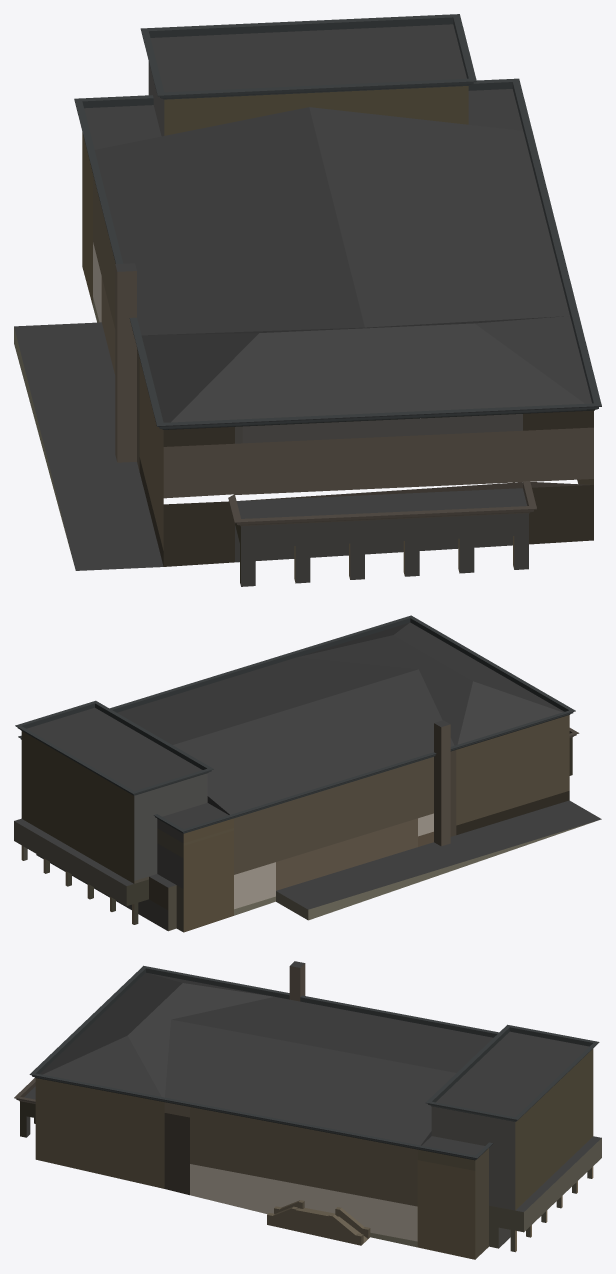
The model's file is memorial-auditorium.glb.
3 renders of one model, top to bottom at view 1: azimuth 30°, elevation 25°; view 2: azimuth 150°, elevation 25°; view 3: azimuth 270°, elevation 25°, orthographic. The views are drawn at different scales.
Parts seen in each view (by area): view 1: LOD0; view 2: LOD0; view 3: LOD0.
Boxes of the visible parts, x1,y1,x2,y2 form: LOD0: [14, 14, 601, 586]; LOD0: [14, 615, 601, 932]; LOD0: [14, 961, 601, 1259].
Size of what is drawn, in the model's own units: 90.47 by 26.91 by 106.
Materials: 2 (2 with a texture image).
